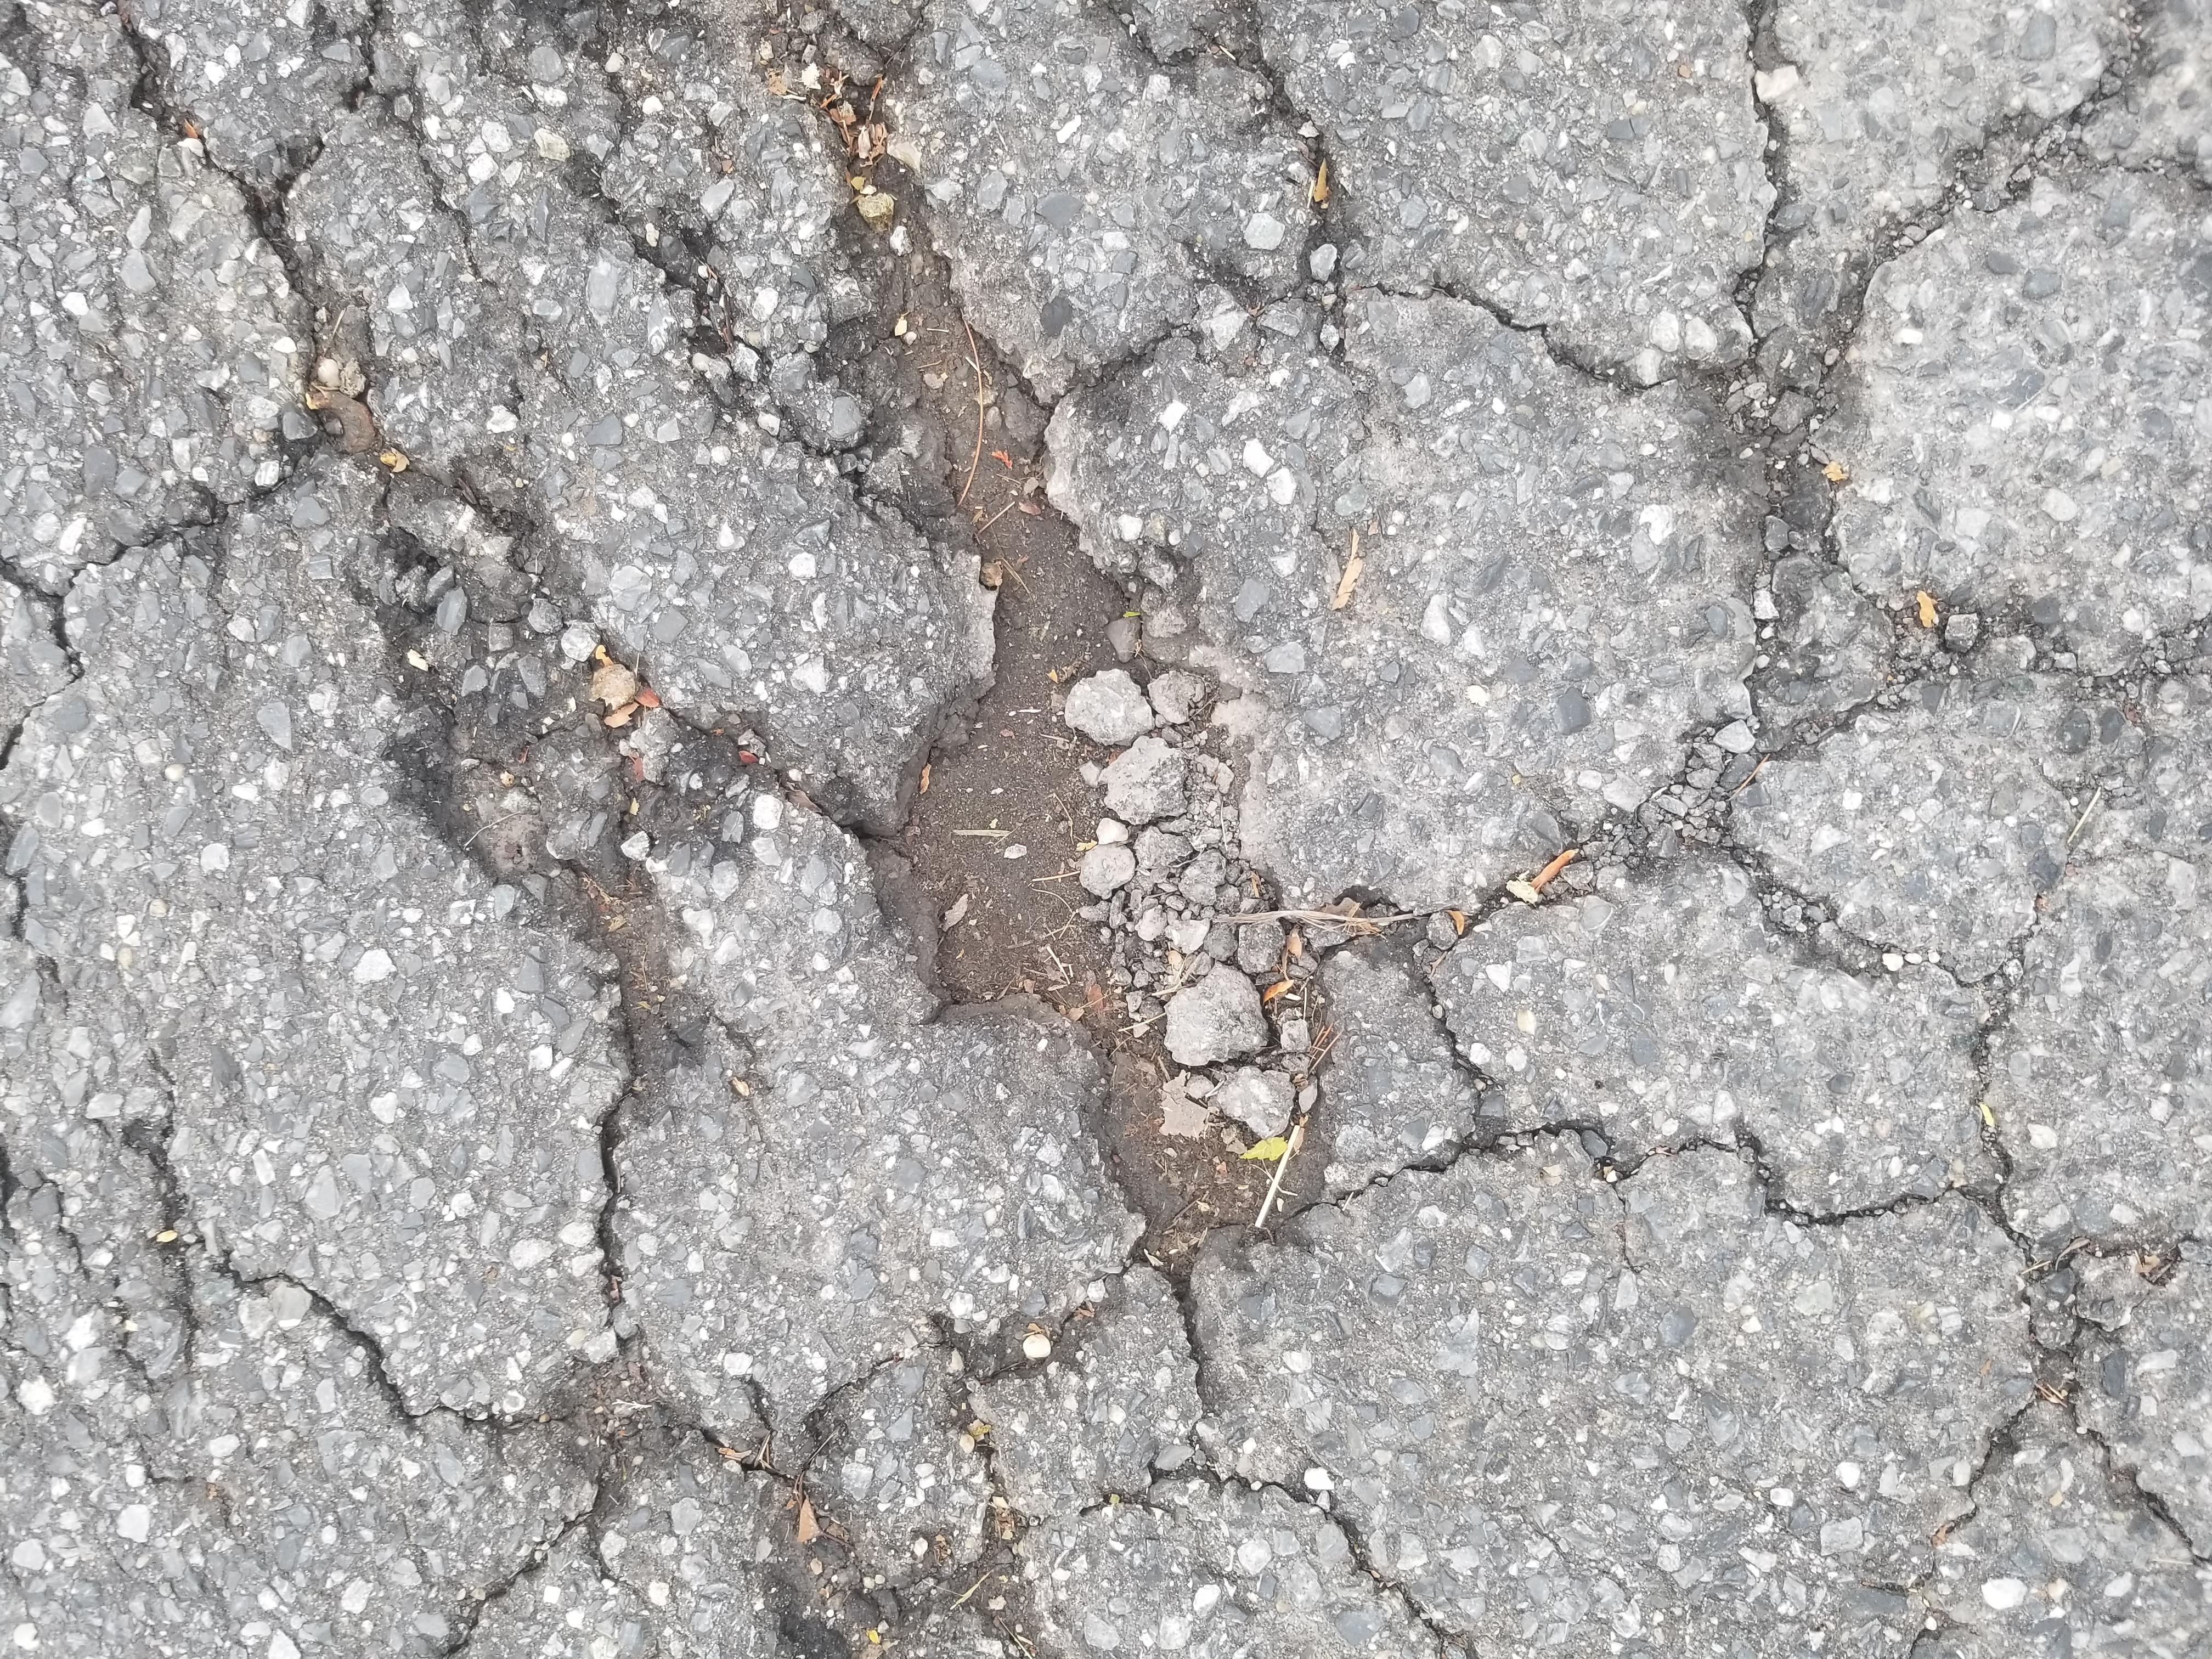crack: (52, 38, 2186, 1638)
